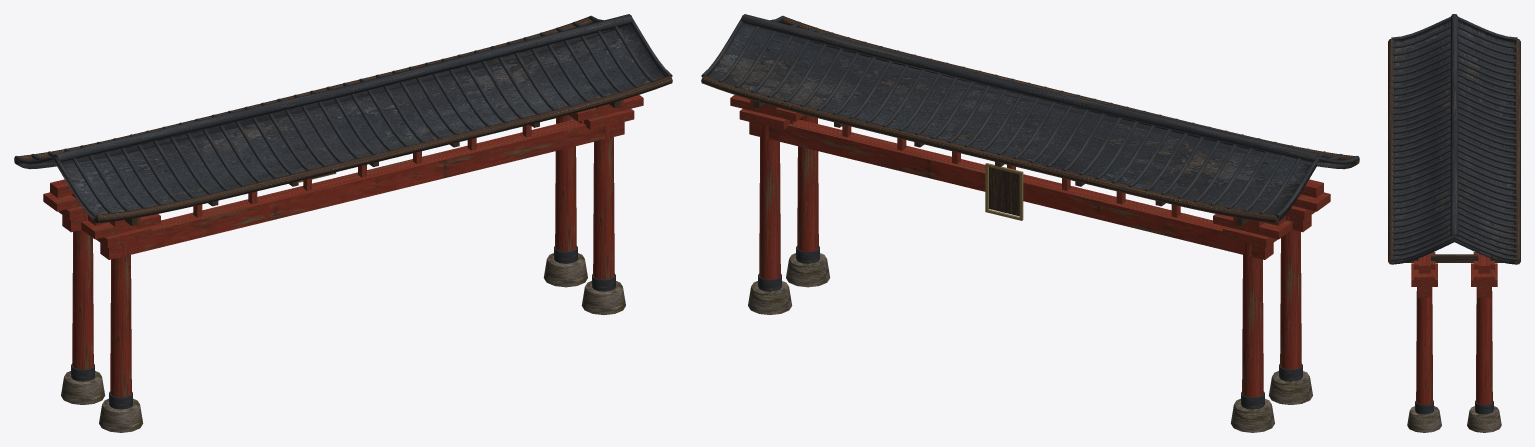
File: sakura-roofed-gate.glb
The picture shows the model from 3 angles, left to right: view 1: azimuth 30°, elevation 25°; view 2: azimuth 150°, elevation 25°; view 3: azimuth 270°, elevation 25°; orthographic projection. The views are drawn at different scales.
Visible parts, largest first — view 1: sakura-roofed-gate-sakura-tile, sakura-roofed-gate-sakura-red, sakura-roofed-gate-sakura-wood, sakura-roofed-gate-sakura-stone; view 2: sakura-roofed-gate-sakura-tile, sakura-roofed-gate-sakura-red, sakura-roofed-gate-sakura-wood, sakura-roofed-gate-sakura-stone, sakura-roofed-gate-sakura-brass; view 3: sakura-roofed-gate-sakura-tile, sakura-roofed-gate-sakura-red, sakura-roofed-gate-sakura-wood, sakura-roofed-gate-sakura-stone.
Boxes of the visible parts, x1,y1,x2,y2 form: sakura-roofed-gate-sakura-tile: (14, 14, 672, 409); sakura-roofed-gate-sakura-red: (43, 95, 643, 397); sakura-roofed-gate-sakura-wood: (14, 16, 672, 225); sakura-roofed-gate-sakura-stone: (61, 253, 625, 432); sakura-roofed-gate-sakura-tile: (701, 14, 1359, 409); sakura-roofed-gate-sakura-red: (730, 95, 1330, 397); sakura-roofed-gate-sakura-wood: (701, 16, 1359, 225); sakura-roofed-gate-sakura-stone: (748, 253, 1312, 432); sakura-roofed-gate-sakura-brass: (985, 163, 1023, 220); sakura-roofed-gate-sakura-tile: (1391, 14, 1517, 414); sakura-roofed-gate-sakura-red: (1411, 252, 1497, 404); sakura-roofed-gate-sakura-wood: (1388, 39, 1520, 264); sakura-roofed-gate-sakura-stone: (1407, 406, 1501, 432).
Size of the model in its own units: 15.8 by 6.94 by 4.
5 materials, 4 textured.
